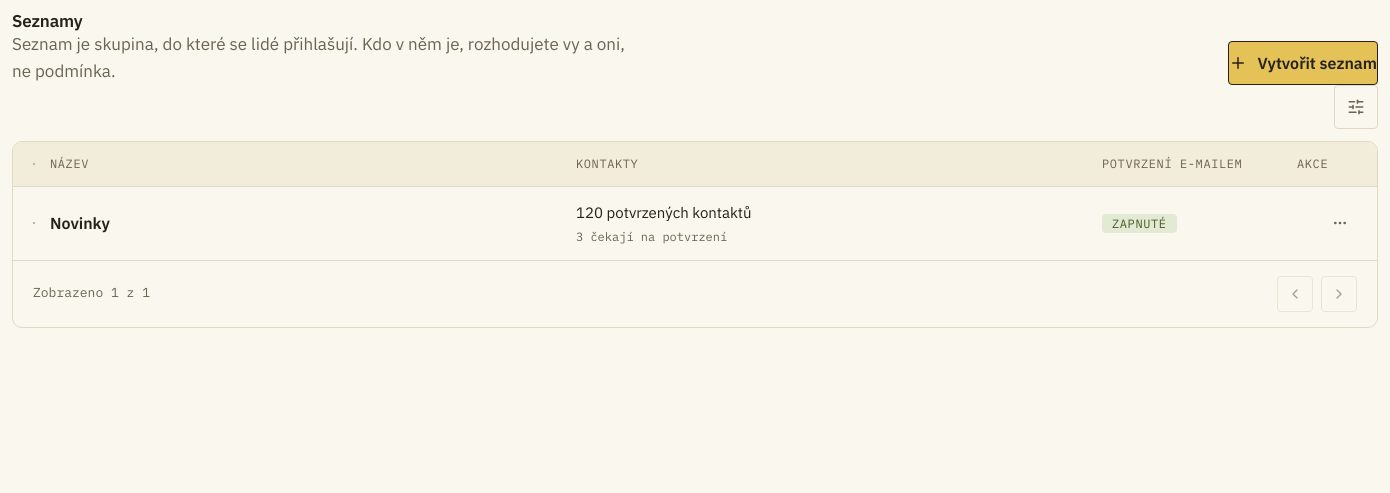
Scenario: nabídka „…" v řádku seznamu › neúspěch nastavení výchozího seznamu se ozve, ne spolkne
Click the button named "Další akce se seznamem".
click(1340, 223)  # box left=1323, top=206, right=1357, bottom=240
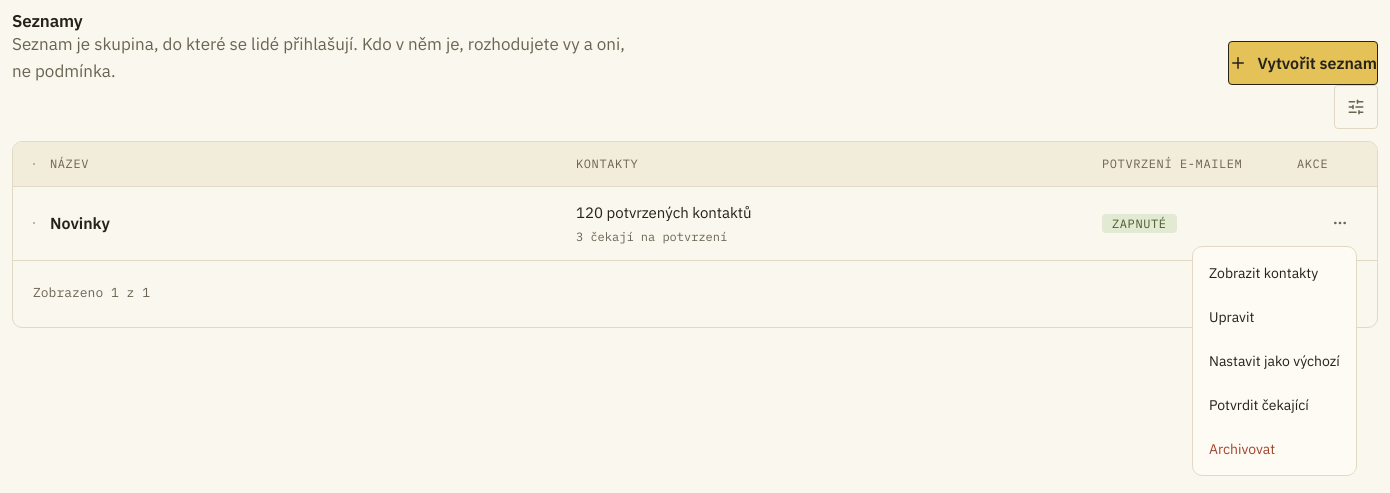
Click the menu item "Nastavit jako výchozí".
click(1274, 361)  # box left=1209, top=352, right=1340, bottom=370
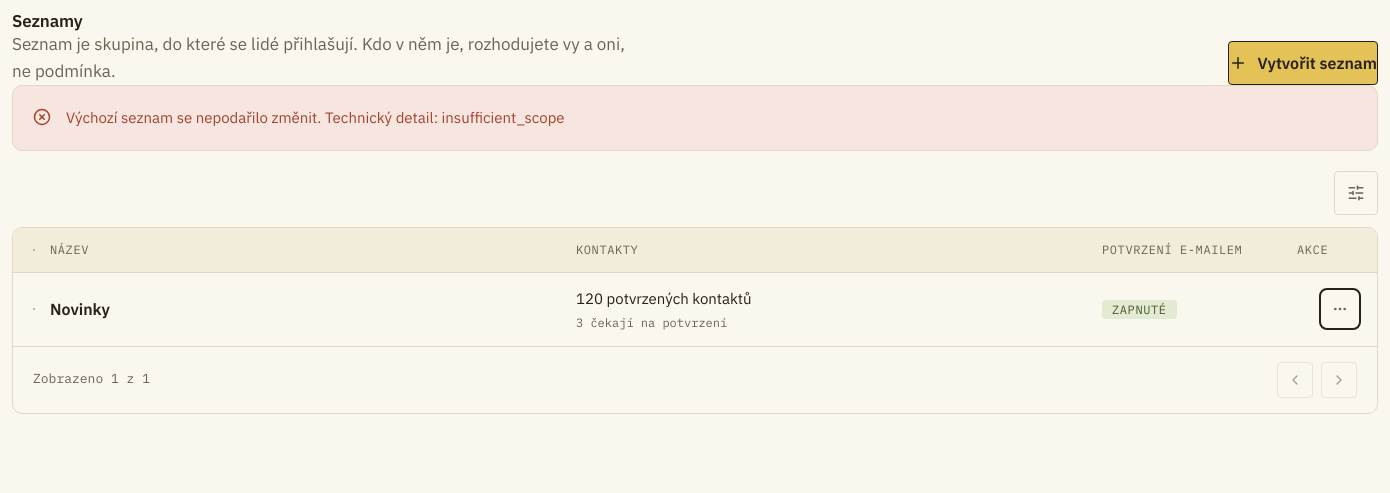
Now the message with test id "lists-error" shows "insufficient_scope", box left=66, top=108, right=565, bottom=127
